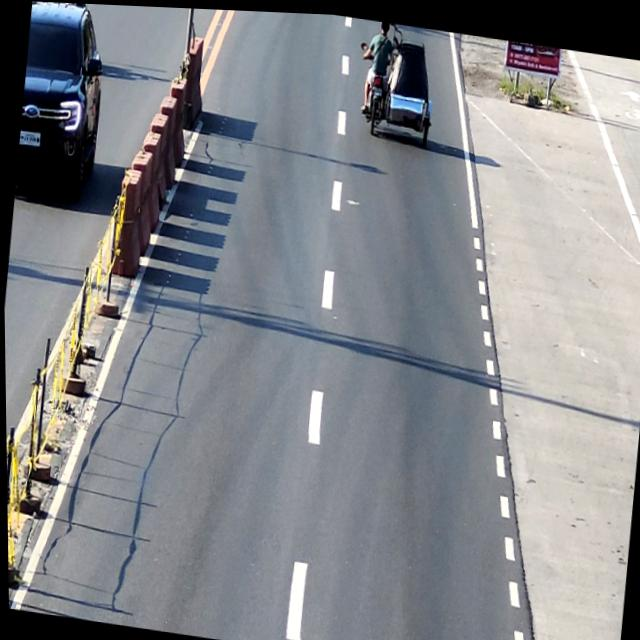Car: (12, 0, 111, 204)
License-Plate: (19, 130, 41, 147), (370, 82, 382, 94)
Tricycle: (350, 15, 441, 144)
